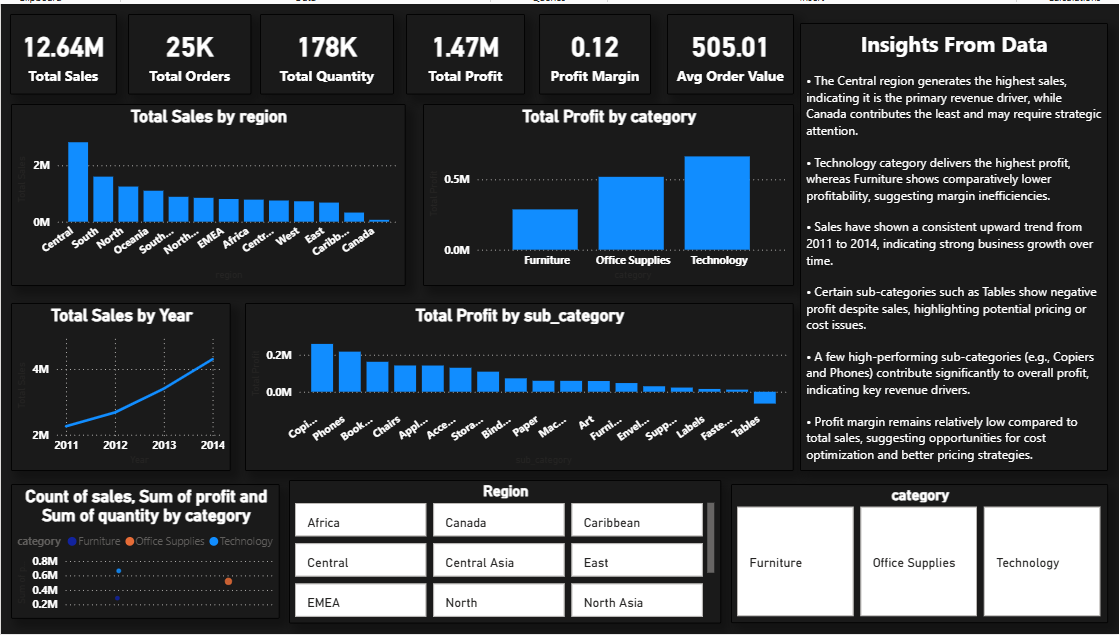

This screenshot's page, from the dashboard's own definition file:
{"tool":"powerbi","page":{"name":"Page 1","canvas":[1280,720],"ordinal":0},"visuals":[{"type":"card","fields":{"Values":["SuperStoreOrders.Total Sales"]},"box":[10,12,121.7,91.8],"z":0},{"type":"card","fields":{"Values":["SuperStoreOrders.Total Orders"]},"box":[144.7,12,140.7,91.8],"z":1000},{"type":"card","fields":{"Values":["SuperStoreOrders.Total Quantity"]},"box":[296.3,12,152.6,91.8],"z":2000},{"type":"card","fields":{"Values":["SuperStoreOrders.Avg Order Value"]},"box":[761.2,12,144.7,91.8],"z":3000},{"type":"card","fields":{"Values":["SuperStoreOrders.Profit Margin"]},"box":[614.6,12,127.7,91.8],"z":4000},{"type":"card","fields":{"Values":["SuperStoreOrders.Total Profit"]},"box":[462.9,12,135.7,91.8],"z":5000},{"type":"columnChart","fields":{"Category":["SuperStoreOrders.region"],"Y":["SuperStoreOrders.Total Sales"]},"box":[12,114.7,450.9,207.5],"z":6000},{"type":"columnChart","fields":{"Category":["SuperStoreOrders.category","SuperStoreOrders.sub_category"],"Y":["SuperStoreOrders.Total Profit"]},"box":[481.9,114.7,424,207.5],"z":7000},{"type":"scatterChart","fields":{"X":["CountNonNull(SuperStoreOrders.sales)"],"Y":["Sum(SuperStoreOrders.profit)"],"Size":["Sum(SuperStoreOrders.quantity)"],"Series":["SuperStoreOrders.category"]},"box":[12,548.7,307.3,153.6],"z":8000},{"type":"lineChart","fields":{"Category":["SuperStoreOrders.order_date.Variation.Date Hierarchy.Year"],"Y":["SuperStoreOrders.Total Sales"]},"box":[12,342.2,251.4,191.6],"z":9000},{"type":"columnChart","fields":{"Category":["SuperStoreOrders.sub_category"],"Y":["SuperStoreOrders.Total Profit"]},"box":[279.3,342.2,626.5,191.6],"z":10000},{"type":"advancedSlicerVisual","title":"Region","fields":{"Values":["SuperStoreOrders.region"]},"box":[329.2,543.7,493.8,163.6],"z":11000},{"type":"advancedSlicerVisual","fields":{"Values":["SuperStoreOrders.category"]},"box":[834,548.7,431,158.6],"z":12000},{"type":"textbox","box":[912.9,21.9,352.2,511.8],"z":12001}]}

Visuals, with their boxes in screenshot pixels (x1, y1, x2, y2), scaled from the page's 1280x720 canvas onto the 1119x635 screenshot:
card - SuperStoreOrders.Total Sales: BBox(9, 11, 115, 92)
card - SuperStoreOrders.Total Orders: BBox(126, 11, 250, 92)
card - SuperStoreOrders.Total Quantity: BBox(259, 11, 392, 92)
card - SuperStoreOrders.Avg Order Value: BBox(665, 11, 792, 92)
card - SuperStoreOrders.Profit Margin: BBox(537, 11, 649, 92)
card - SuperStoreOrders.Total Profit: BBox(405, 11, 523, 92)
columnChart - SuperStoreOrders.region x SuperStoreOrders.Total Sales: BBox(10, 101, 405, 284)
columnChart - SuperStoreOrders.category x SuperStoreOrders.sub_category: BBox(421, 101, 792, 284)
scatterChart - CountNonNull(SuperStoreOrders.sales) x Sum(SuperStoreOrders.profit): BBox(10, 484, 279, 619)
lineChart - SuperStoreOrders.order_date.Variation.Date Hierarchy.Year x SuperStoreOrders.Total Sales: BBox(10, 302, 230, 471)
columnChart - SuperStoreOrders.sub_category x SuperStoreOrders.Total Profit: BBox(244, 302, 792, 471)
"Region" advancedSlicerVisual: BBox(288, 480, 719, 624)
advancedSlicerVisual - SuperStoreOrders.category: BBox(729, 484, 1106, 624)
textbox: BBox(798, 19, 1106, 471)
